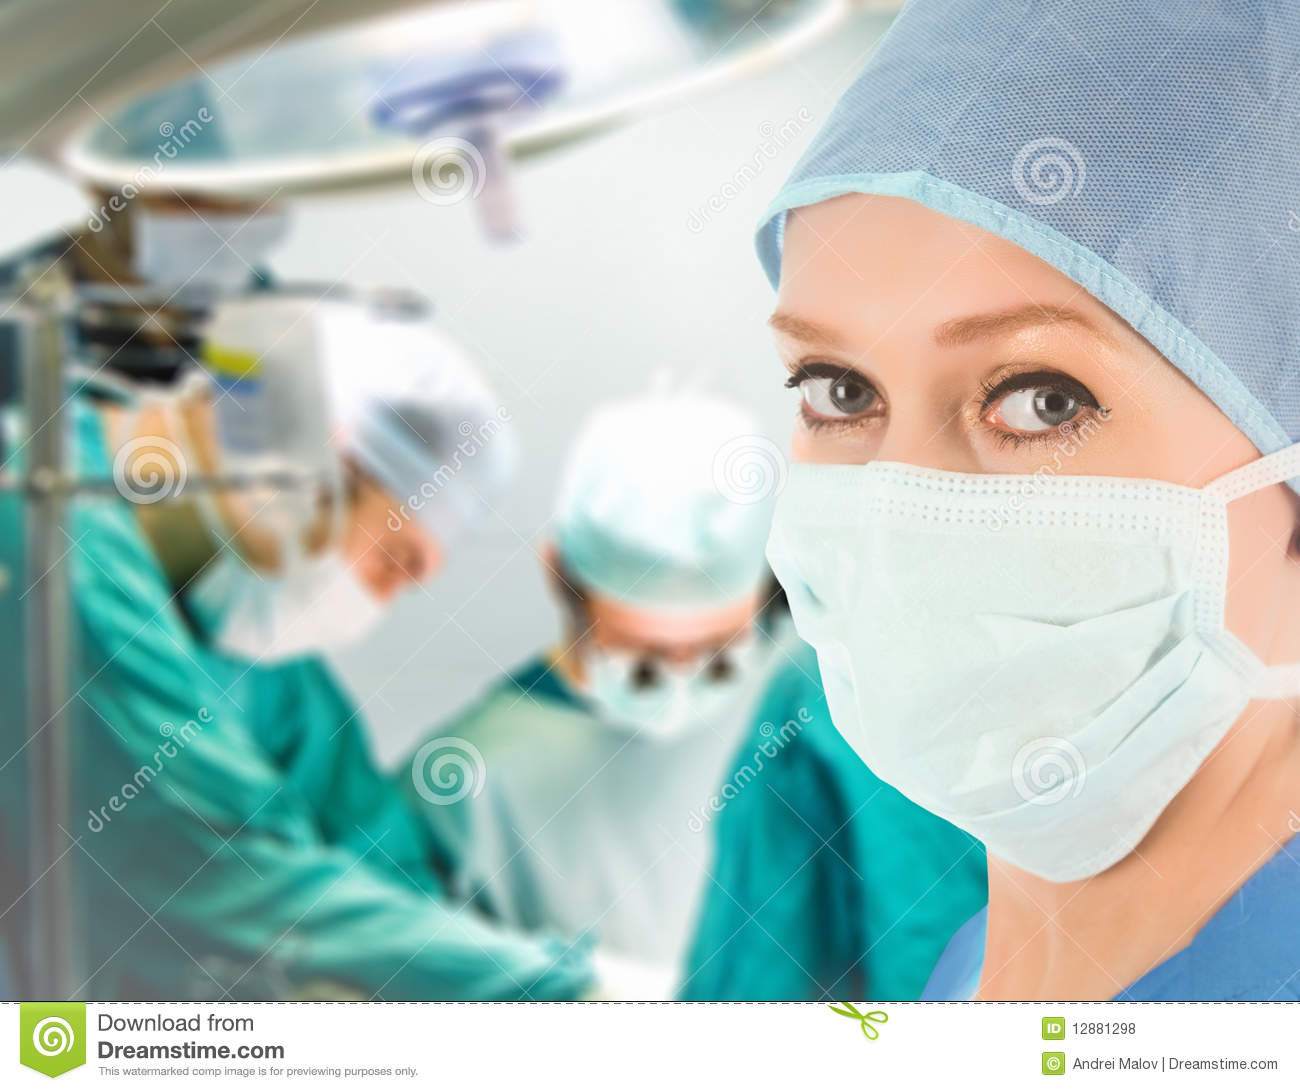mask: (740, 454, 1268, 868)
